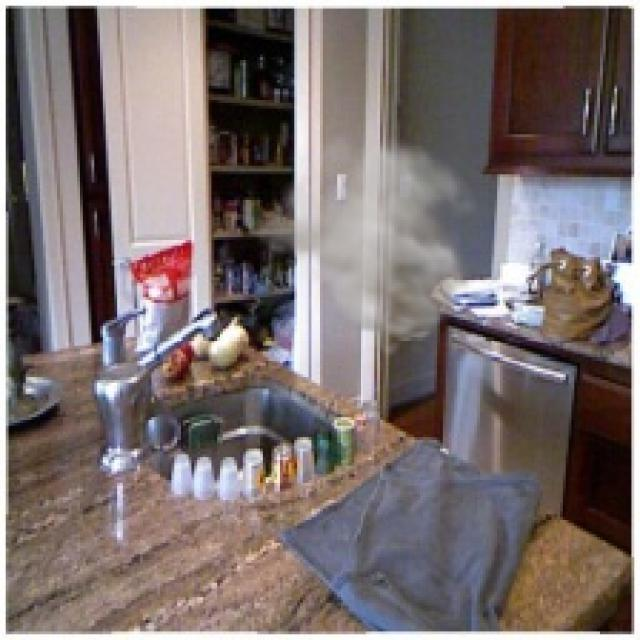Smoke: (239, 128, 492, 360)
